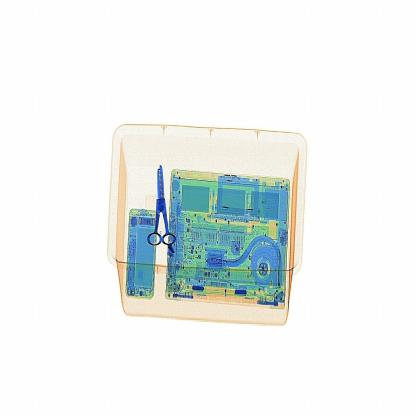gun: (140, 151, 185, 261)
